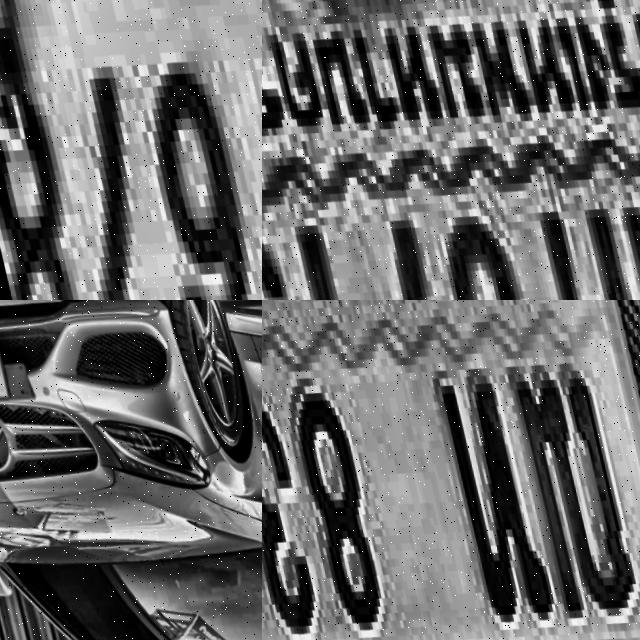license-plate: (262, 300, 640, 640), (262, 0, 640, 300), (0, 0, 262, 300)
